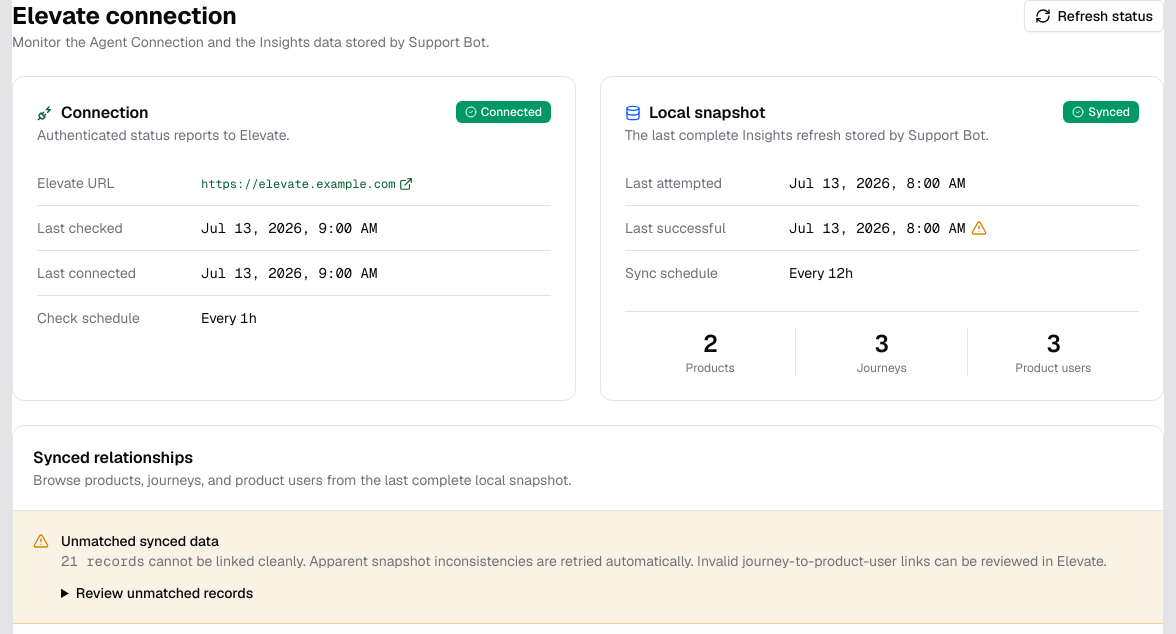
ElevatePage › does not expose stale integrity records or pagination while replacements load
Click the heading "Review unmatched records": (157, 593) [61, 583, 253, 603]
(page scrolled)
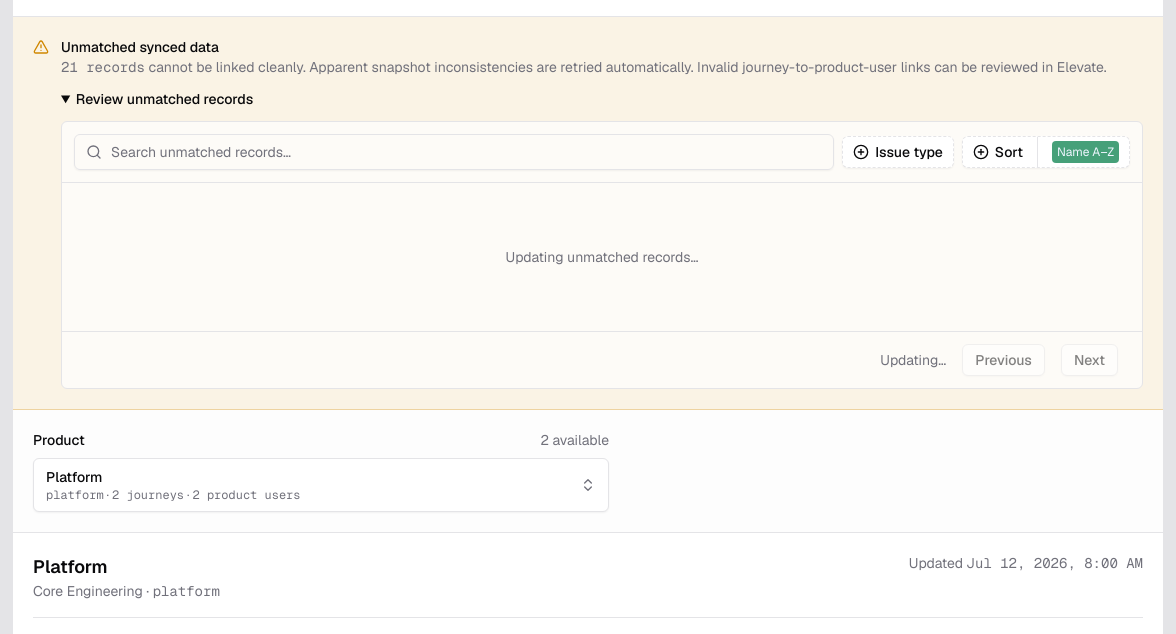
Now the text "Updating unmatched records…" is shown, box [506, 248, 698, 266]
Now the button "Previous" is disabled, box [962, 344, 1045, 376]
Now the button "Next" is disabled, box [1061, 344, 1118, 376]
